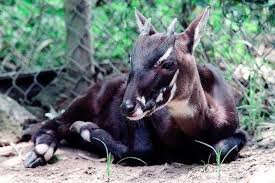sao_la: (107, 12, 213, 138)
